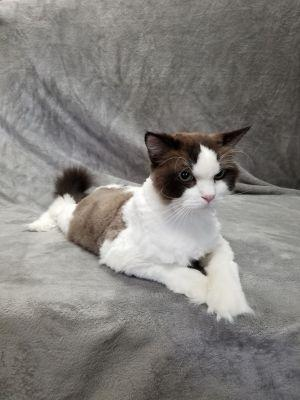ragdoll: (139, 121, 256, 231)
